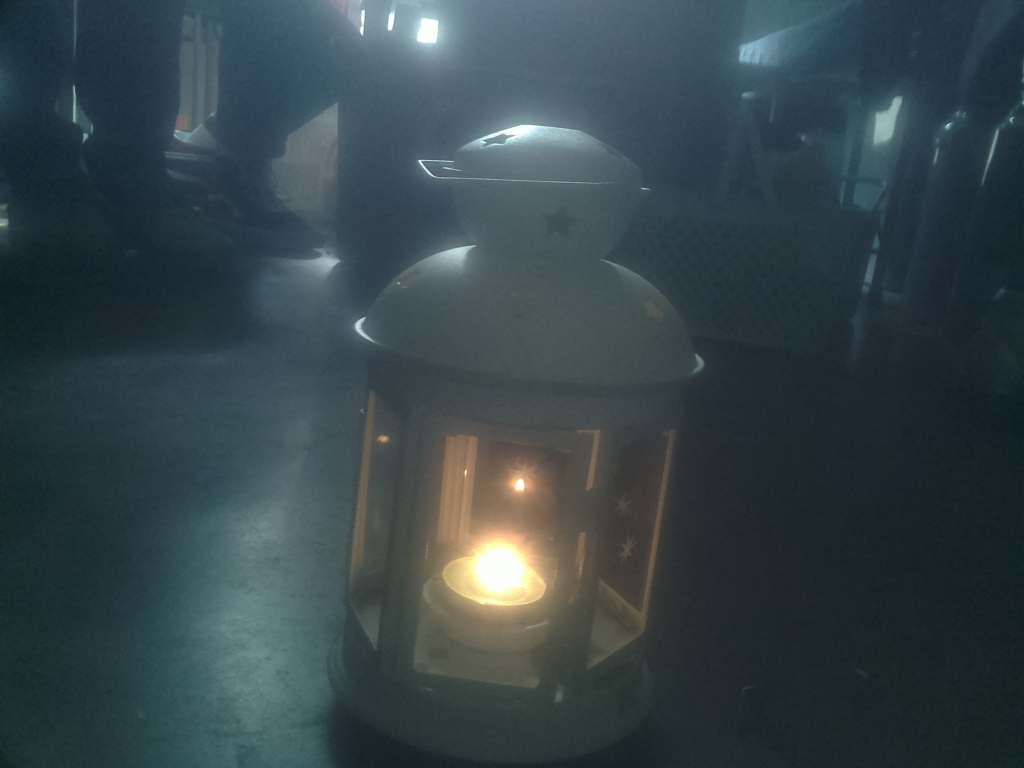fire: (433, 518, 569, 638)
